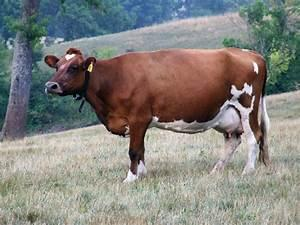cow: (43, 46, 271, 184)
